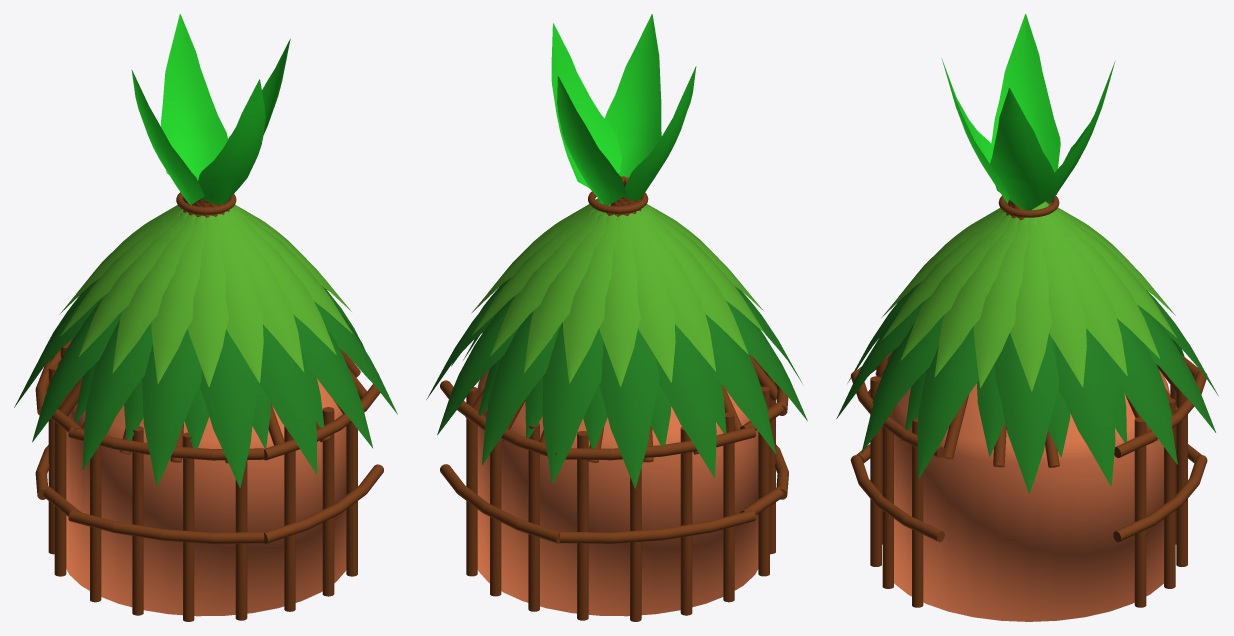
File: innBeta.fbx
The picture shows the model from 3 angles, left to right: view 1: azimuth 30°, elevation 25°; view 2: azimuth 150°, elevation 25°; view 3: azimuth 270°, elevation 25°; orthographic projection.
Visible parts, largest first — view 1: hutBase, roofTop, roofMid, stickBottom, roofHat, stickCurve, roofBot, stickTop, stickHat; view 2: hutBase, roofTop, roofMid, stickBottom, roofHat, stickCurve, roofBot, stickTop, stickHat; view 3: hutBase, roofTop, roofMid, roofHat, stickBottom, stickCurve, roofBot, stickTop, stickHat.
Boxes of the visible parts, x1,y1,x2,y2 form: hutBase: (66, 379, 346, 616); roofTop: (59, 205, 352, 386); roofMid: (14, 279, 397, 487); stickBottom: (48, 343, 357, 621); roofHat: (131, 14, 290, 205); stickCurve: (35, 339, 383, 543); roofBot: (49, 355, 324, 448); stickTop: (47, 197, 366, 463); stickHat: (176, 192, 236, 214); hutBase: (477, 369, 758, 616); roofTop: (471, 198, 765, 386); roofMid: (426, 278, 807, 488); stickBottom: (466, 371, 775, 621); roofHat: (551, 14, 696, 205); stickCurve: (440, 380, 788, 543); roofBot: (463, 335, 767, 448); stickTop: (465, 176, 777, 462); stickHat: (588, 191, 648, 213); hutBase: (894, 370, 1170, 621); roofTop: (881, 201, 1176, 391); roofMid: (836, 282, 1218, 493); roofHat: (941, 14, 1115, 210); stickBottom: (870, 356, 1187, 607); stickCurve: (850, 352, 1207, 542); roofBot: (872, 347, 1172, 457); stickTop: (868, 200, 1184, 467); stickHat: (998, 195, 1059, 217).
Size of the model in its own units: 563 by 819 by 558.
